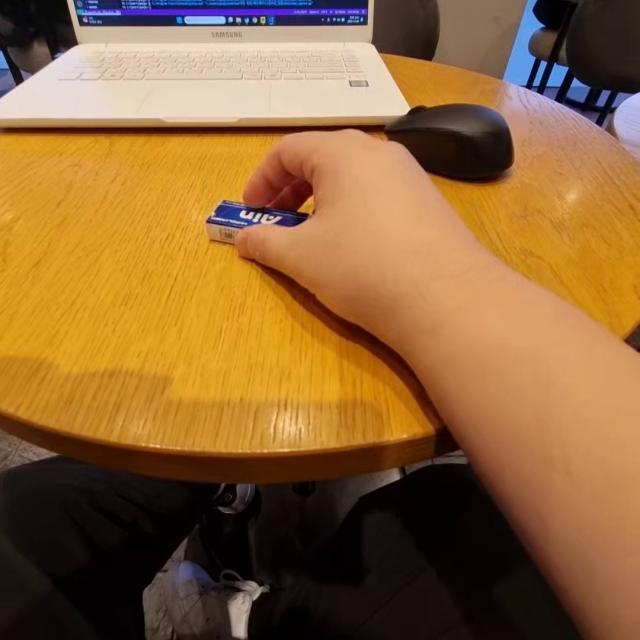eraser: (187, 186, 314, 246)
grab_eraser: (188, 120, 472, 345)
hand: (237, 141, 438, 313)
mouse: (385, 86, 533, 182)
